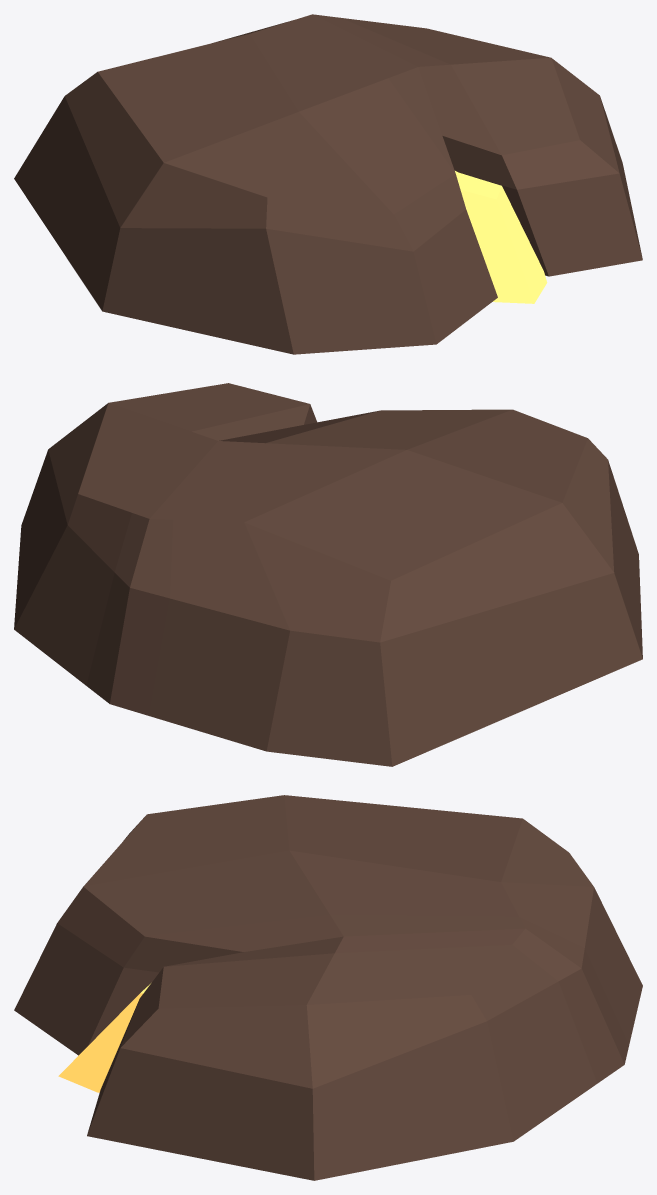
File: rock.fbx
The picture shows the model from 3 angles, top to bottom: view 1: azimuth 30°, elevation 25°; view 2: azimuth 150°, elevation 25°; view 3: azimuth 270°, elevation 25°; orthographic projection. The views are drawn at different scales.
Parts seen in each view (by area): view 1: Cube, Cube.001; view 2: Cube; view 3: Cube, Cube.001.
Boxes of the visible parts, <box> form: Cube: <box>14,14,642,354</box>; Cube.001: <box>455,171,547,303</box>; Cube: <box>14,383,642,766</box>; Cube: <box>14,795,642,1180</box>; Cube.001: <box>58,983,150,1092</box>.
Bounding box in the file's own units: 307 × 79.75 × 286.
